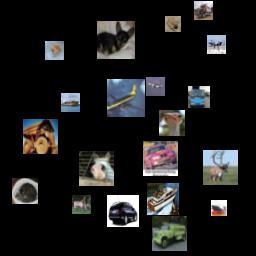airplane: (107, 79, 145, 117), (207, 35, 226, 54), (146, 77, 165, 96)
automobile: (143, 141, 178, 176), (107, 195, 139, 227)
bird: (159, 110, 185, 136)
cat: (12, 178, 38, 204)
deer: (203, 150, 238, 185), (72, 195, 91, 214)
dog: (97, 21, 135, 59)
frog: (45, 41, 64, 60), (165, 16, 181, 32)
ship: (147, 183, 179, 215), (61, 93, 80, 112), (211, 200, 227, 216)
truck: (23, 119, 58, 154), (152, 216, 187, 251), (188, 86, 210, 108), (194, 1, 213, 20)
